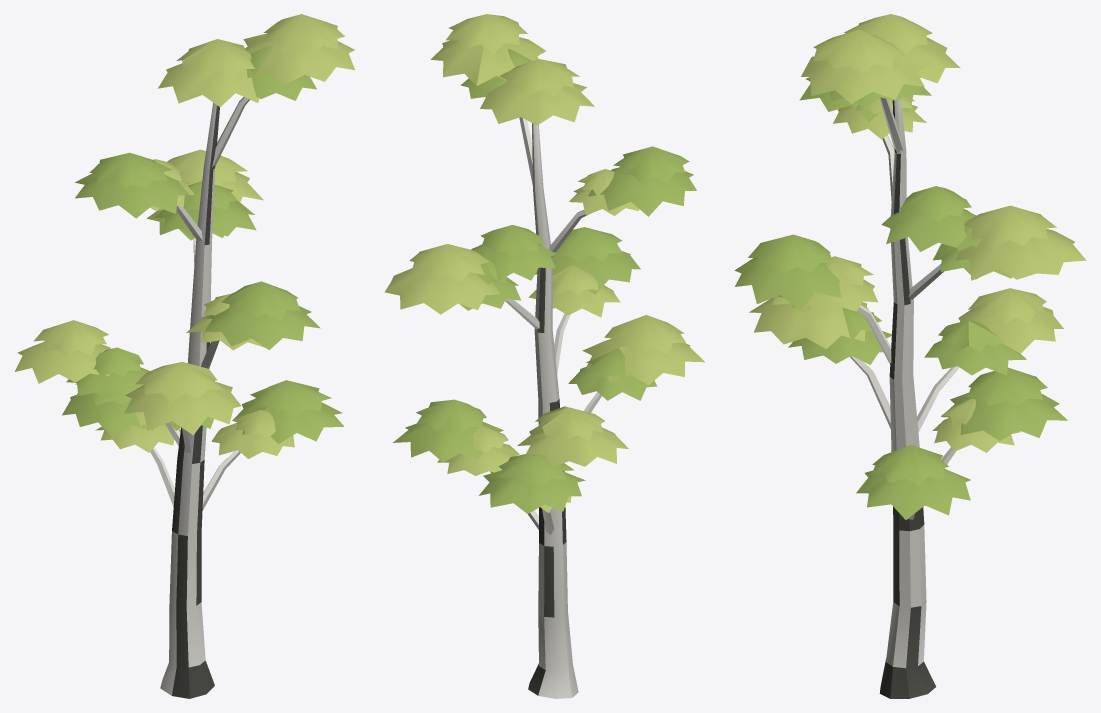
The model's file is tree_birch.glb.
3 views of the same model, side by side, from view 1: azimuth 30°, elevation 25°; view 2: azimuth 150°, elevation 25°; view 3: azimuth 270°, elevation 25° (orthographic). The views are drawn at different scales.
Parts seen in each view (by area): view 1: Body; view 2: Body; view 3: Body.
Part boxes in pixels (x1,y1,x2,y2): Body: [15, 14, 354, 698]; Body: [385, 14, 704, 698]; Body: [734, 14, 1086, 698].
Size of the model in its own units: 2.84 by 6.48 by 2.92.
